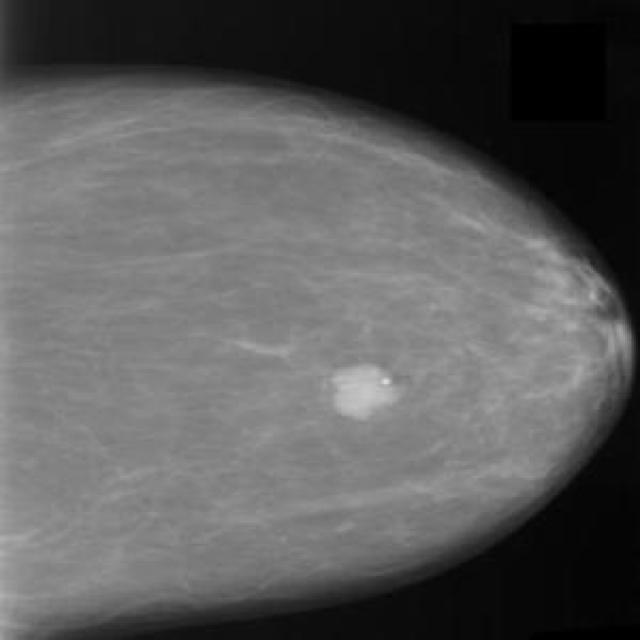tumor: (530, 246, 633, 398), (332, 351, 422, 434)
